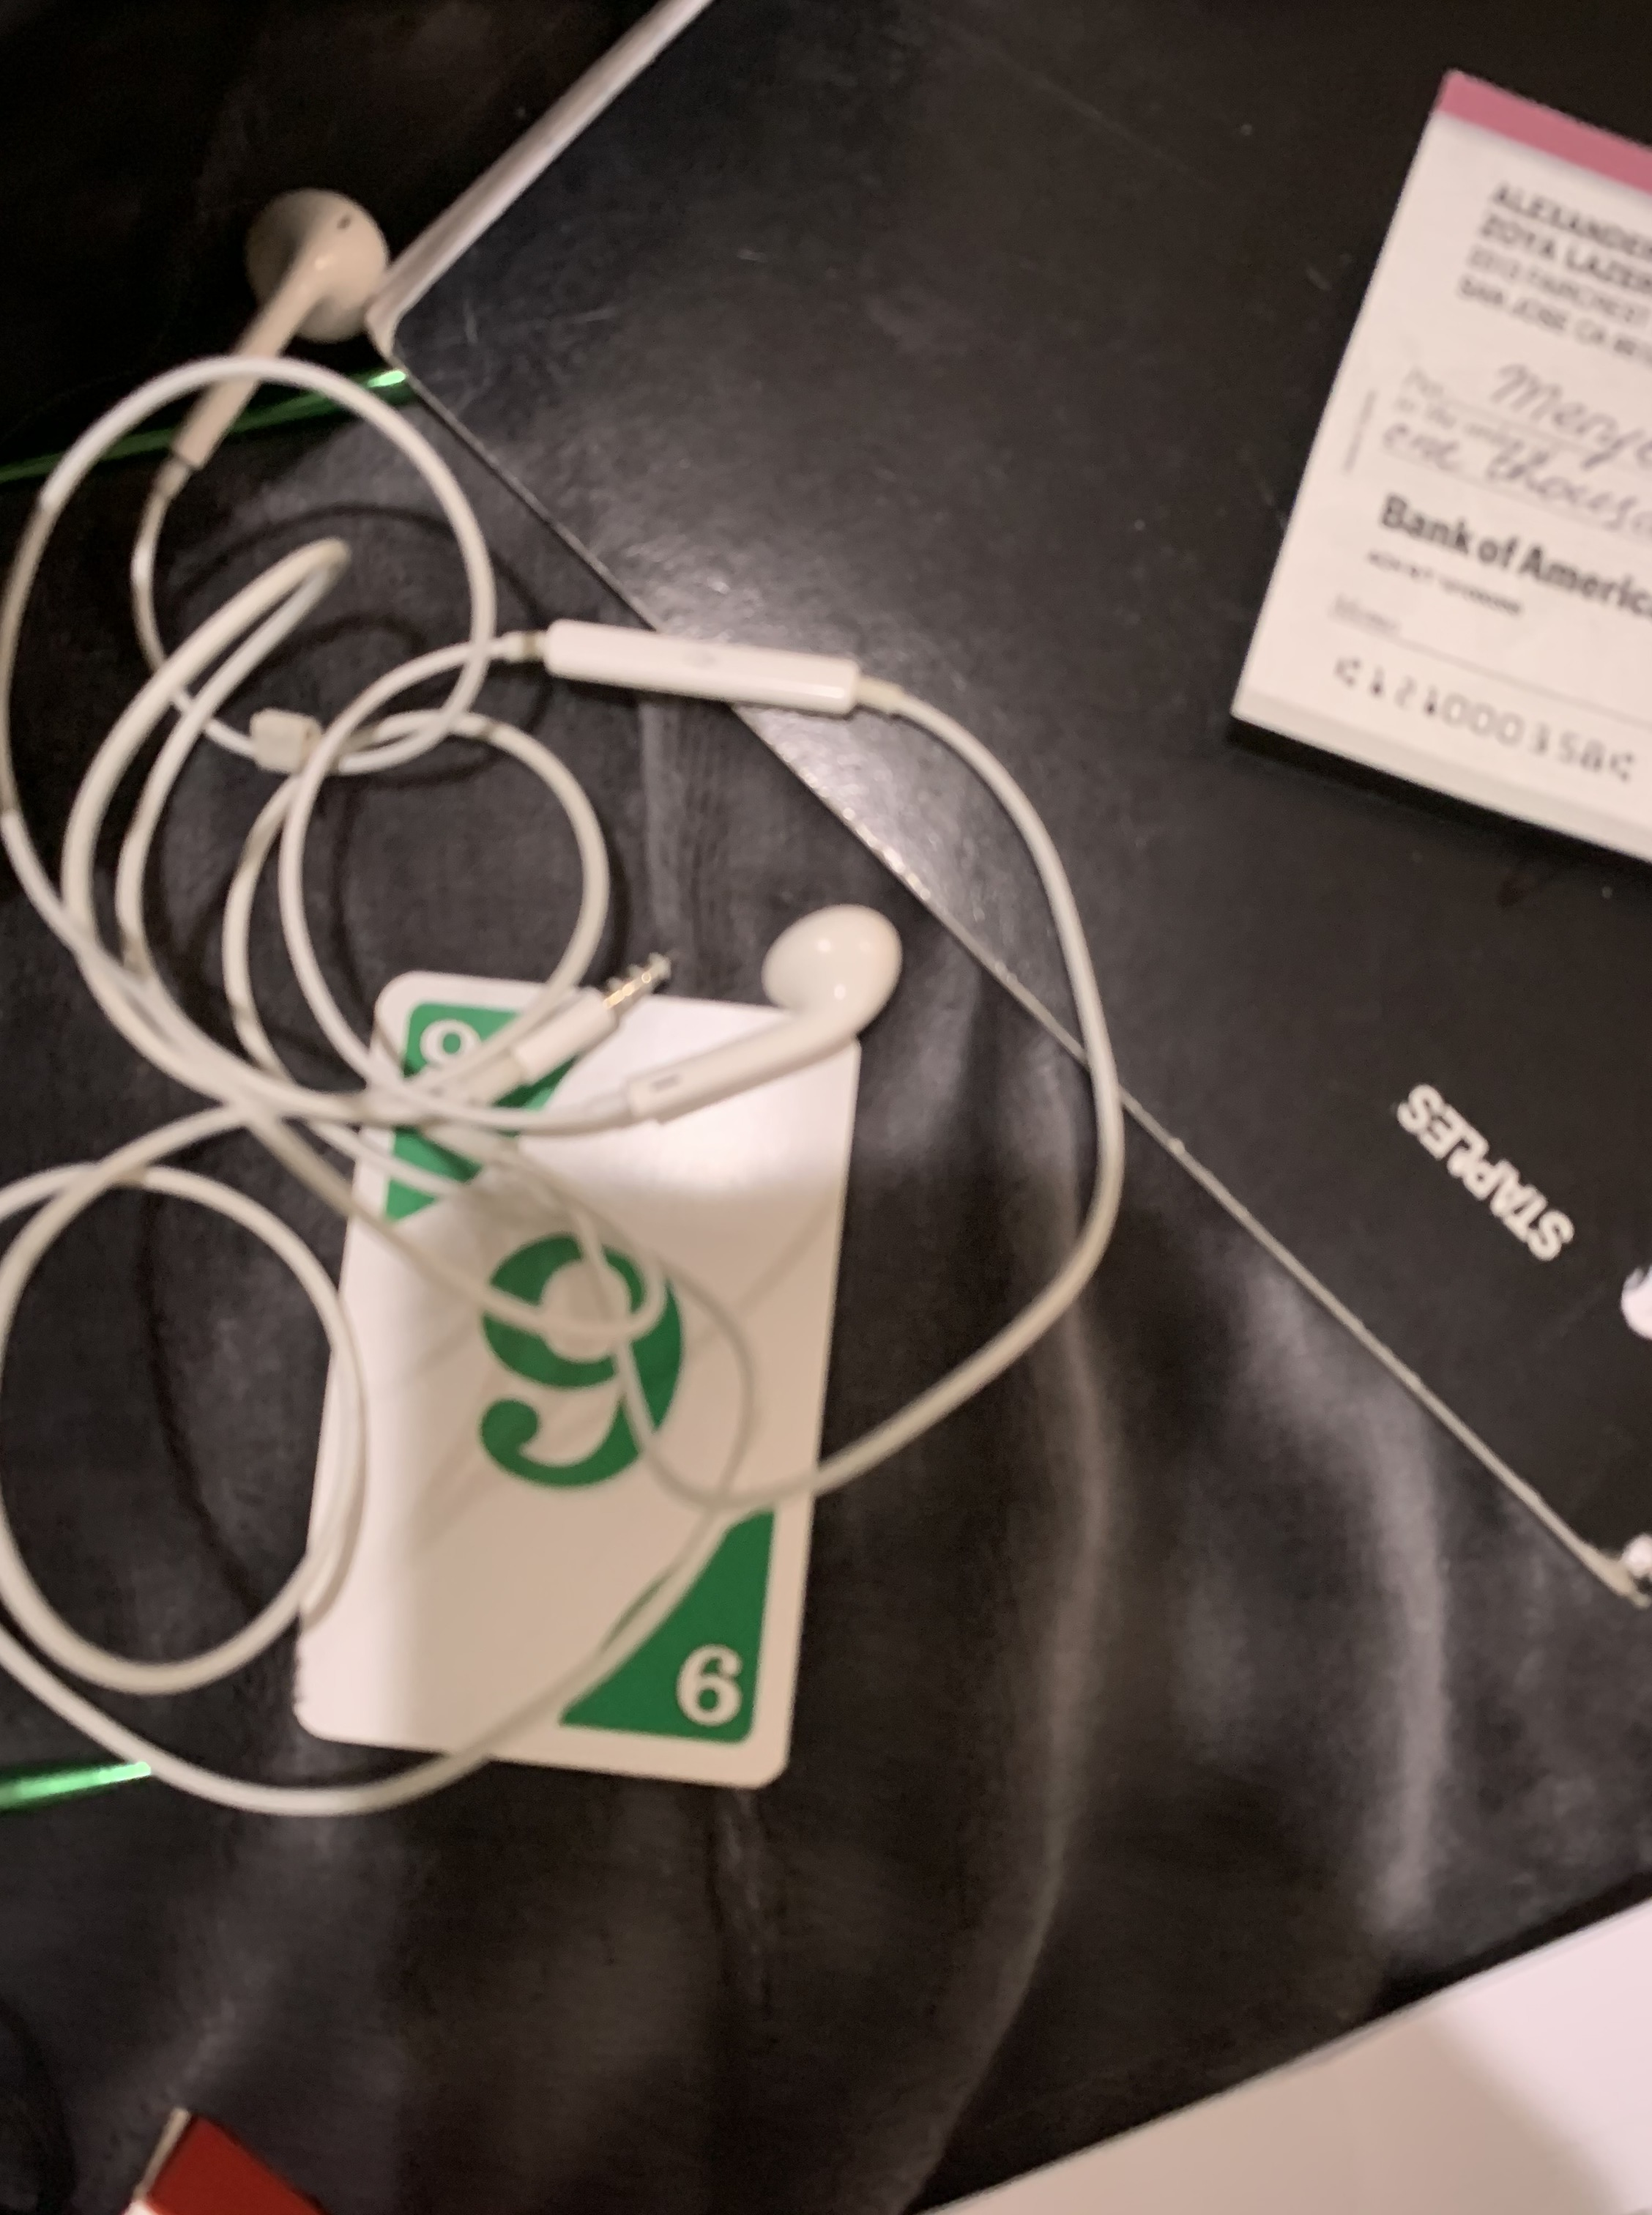nine: (259, 950, 887, 1804)
